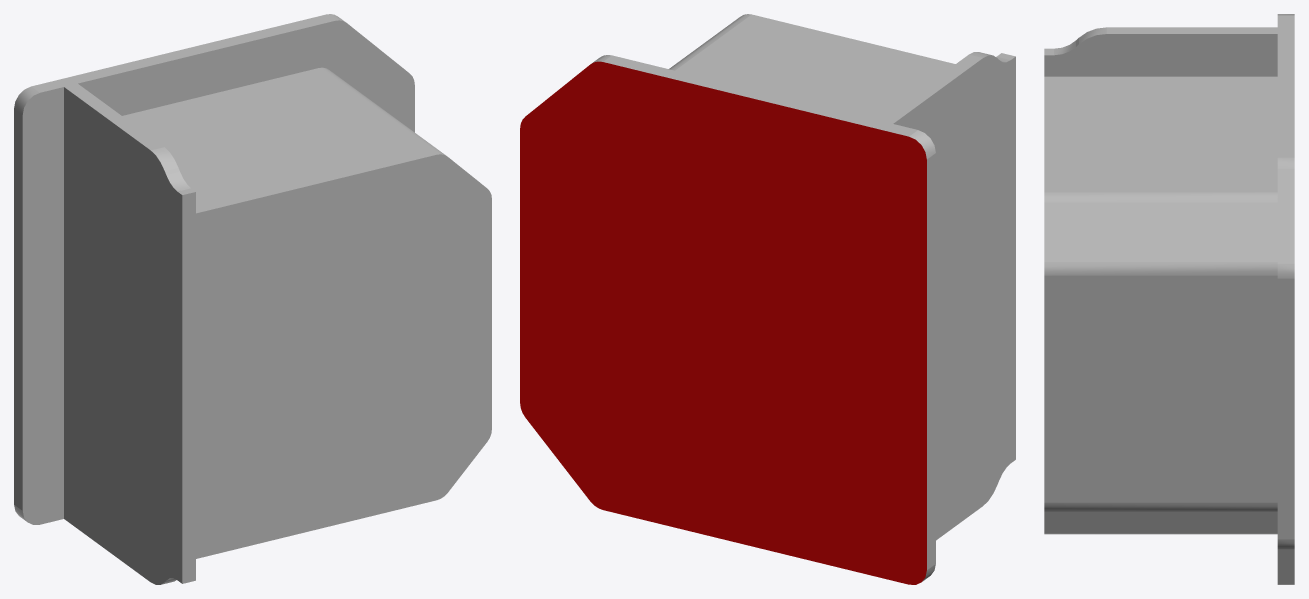
The model's file is Idler_Base_P1.dae.
The picture shows the model from 3 angles, left to right: view 1: azimuth 30°, elevation 25°; view 2: azimuth 150°, elevation 25°; view 3: azimuth 270°, elevation 25°; orthographic projection. The views are drawn at different scales.
Parts seen in each view (by area): view 1: Node_000002CA53F98710; view 2: Node_000002CA53F98710 (×2); view 3: Node_000002CA53F98710.
Part boxes in pixels (x1,y1,x2,y2): Node_000002CA53F98710: (14,14,491,584); Node_000002CA53F98710 (×2): (520,14,1015,584); Node_000002CA53F98710: (1044,14,1294,584).
Size of the model in its own units: 0.57 by 0.6 by 0.32.
